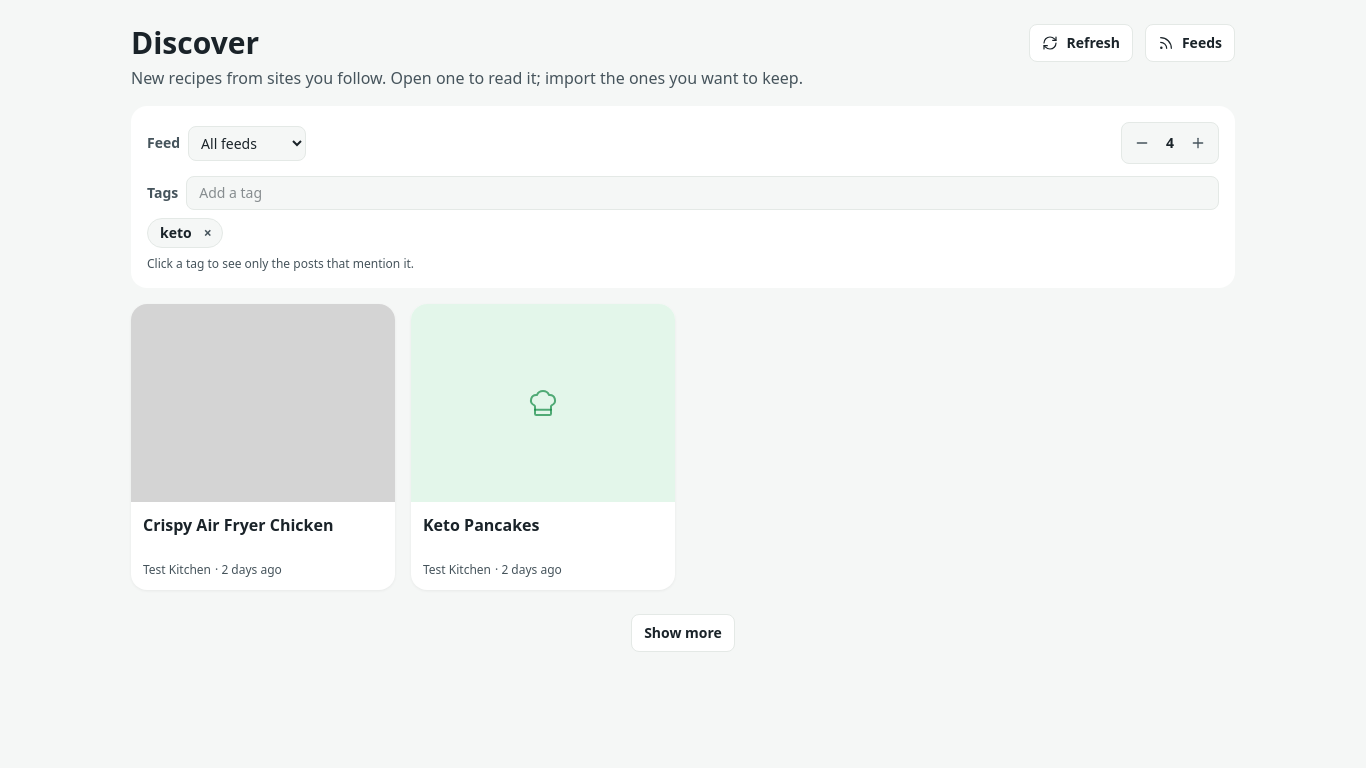
Test: the Discovery page › Refresh checks the feeds now, and says what came in
Click the button "Refresh" at {"x": 1081, "y": 43}, box x1=1030 y1=24 x2=1133 y2=62
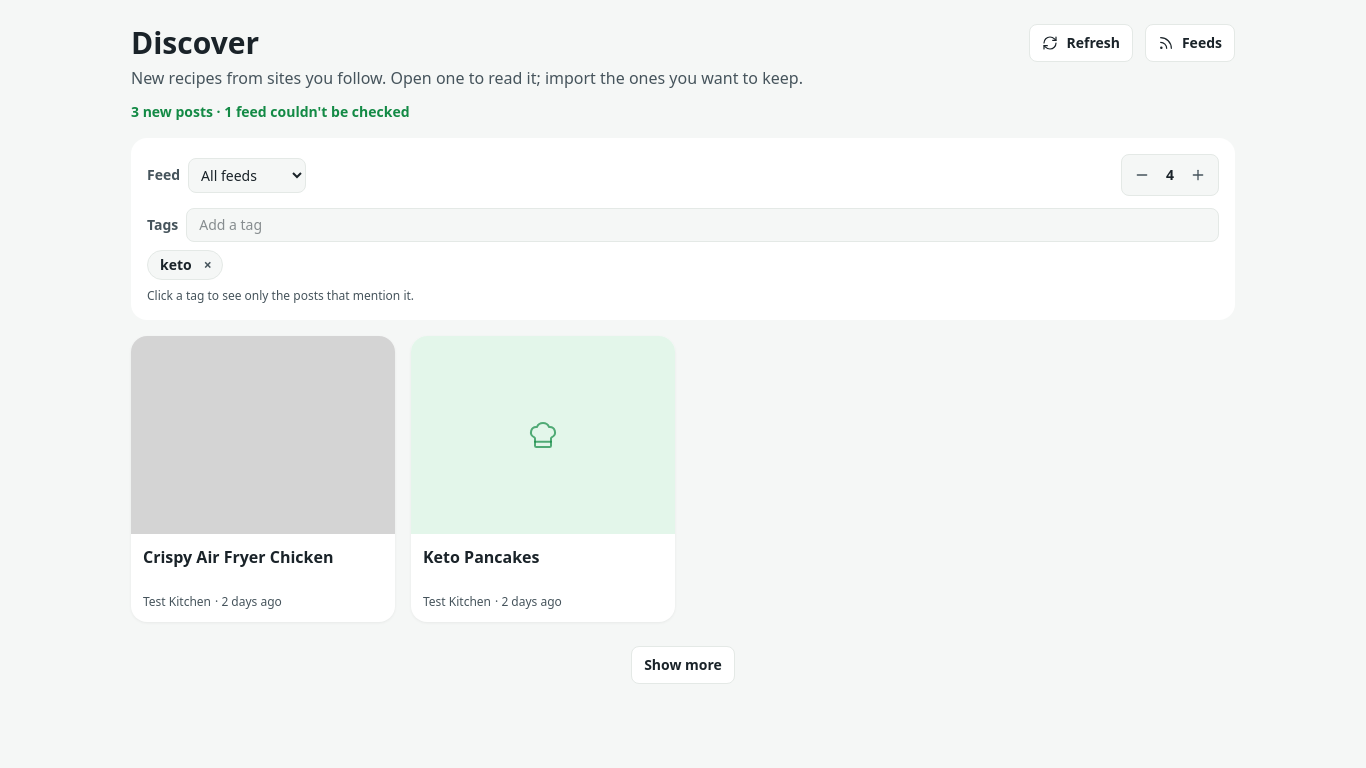
Expected: the message reads "3 new posts · 1 feed couldn't be checked", x1=131 y1=102 x2=410 y2=121
